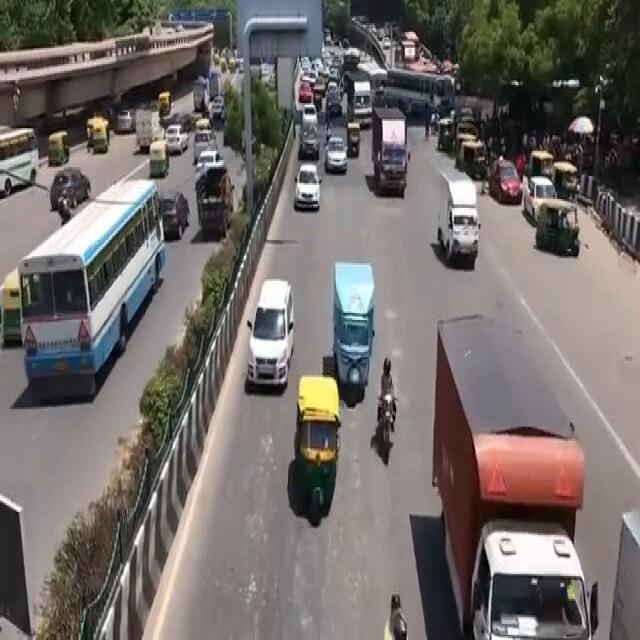three_wheeler: (288, 361, 346, 544)
